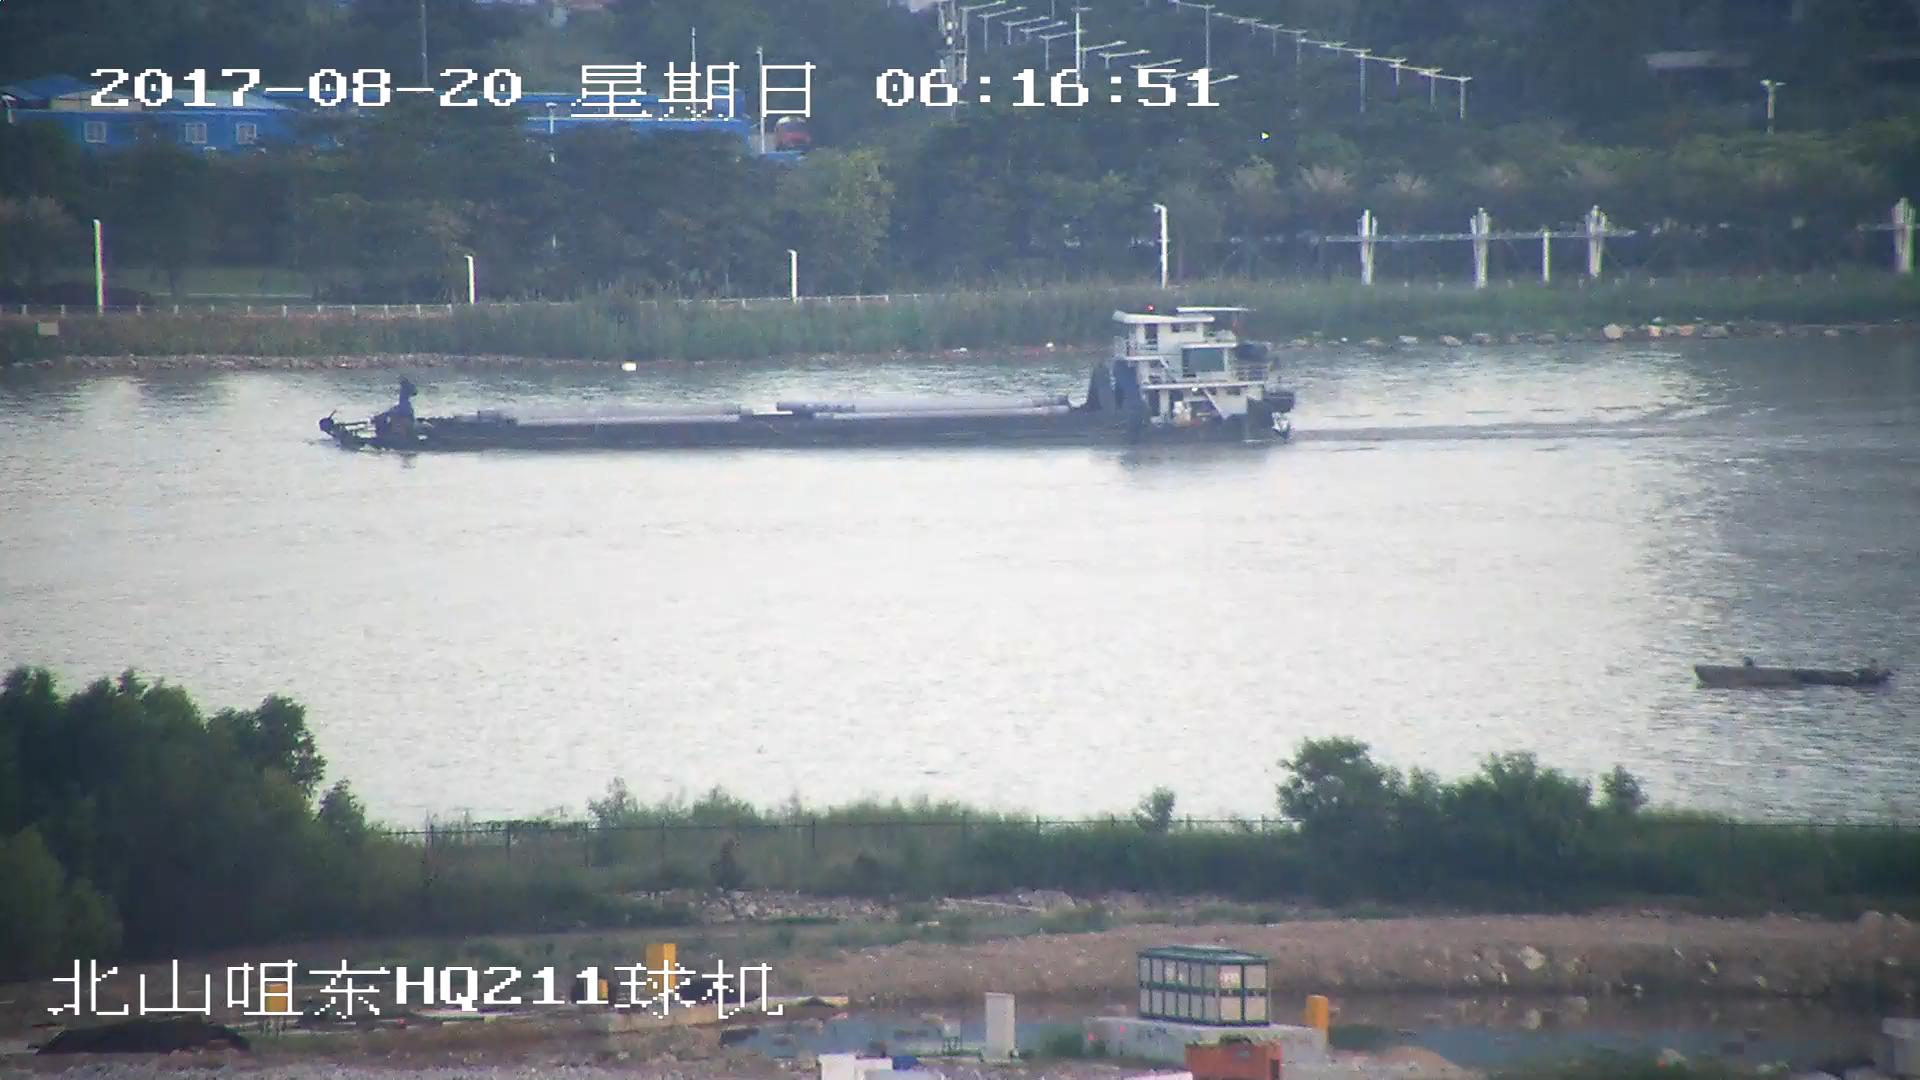bulk cargo carrier: (318, 308, 1300, 449)
fishing boat: (1696, 655, 1892, 692)
